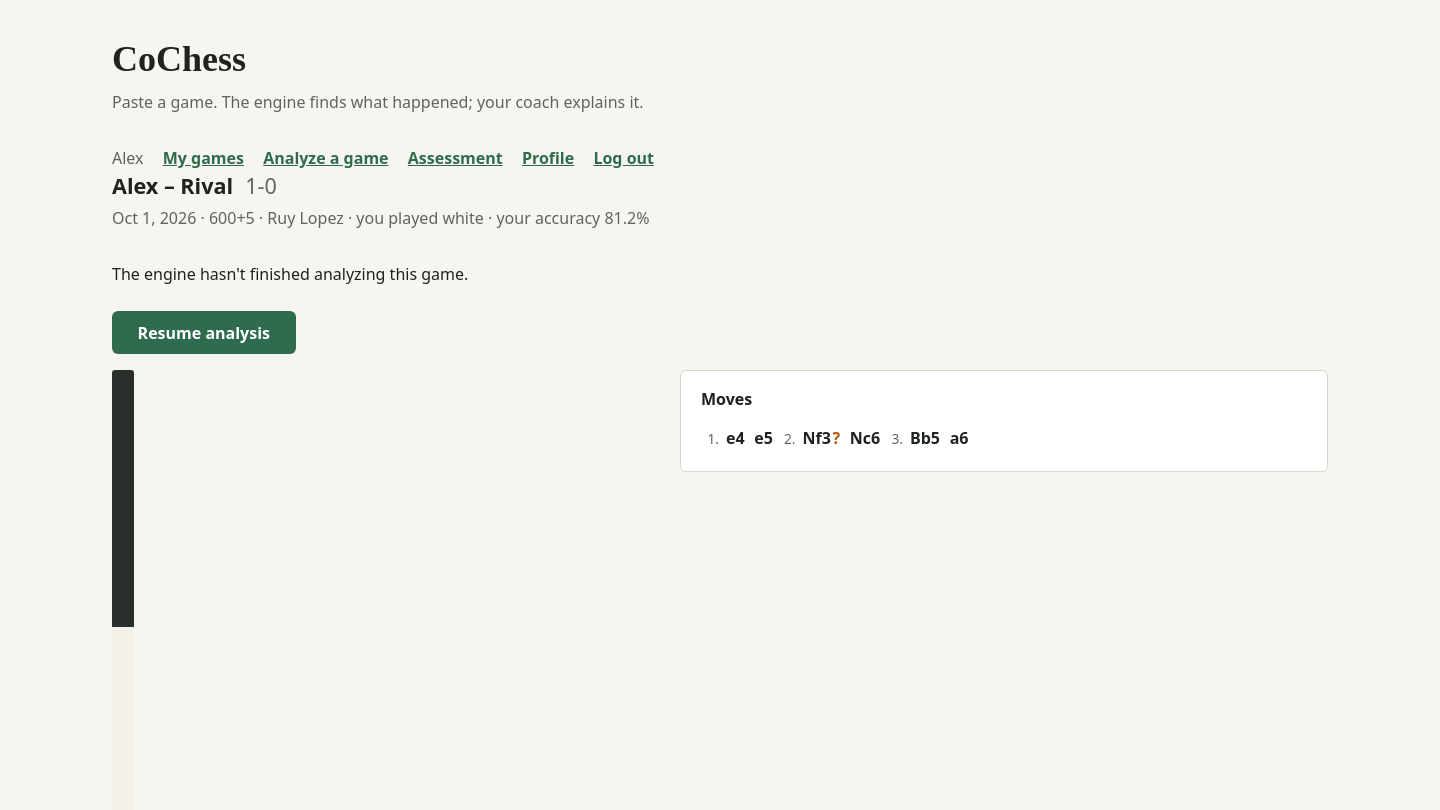
an unfinished analysis resumes with the verify step only
Click the button "Resume analysis".
click(204, 333)  # box [112,311,296,354]
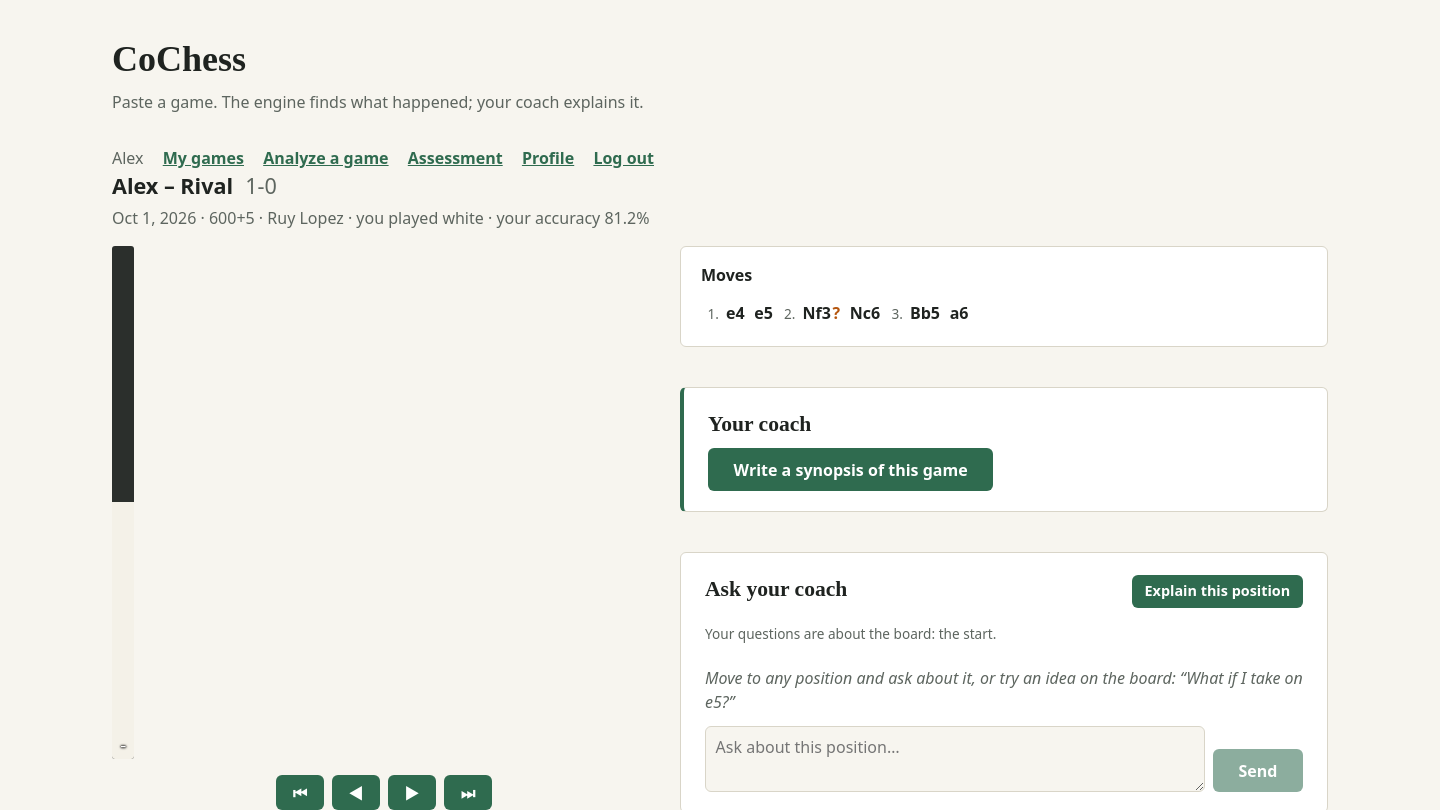
Result: the button "Write a synopsis of this game" is shown at [708,448,993,491]
